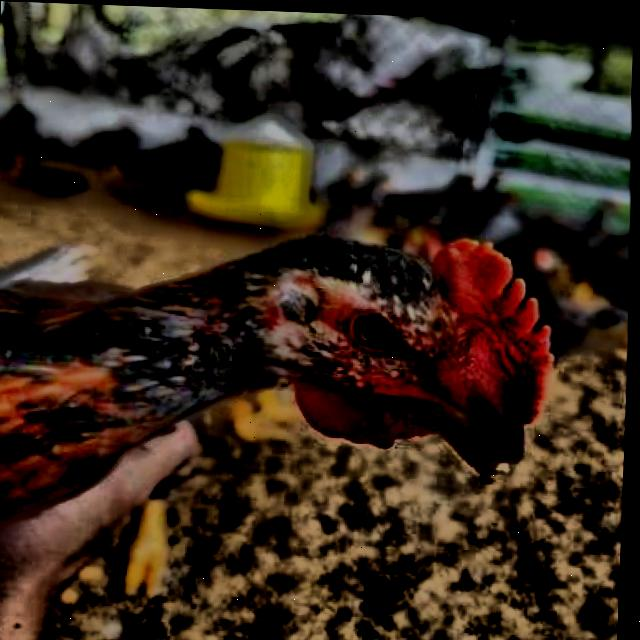Healthy: (327, 302, 411, 363)
